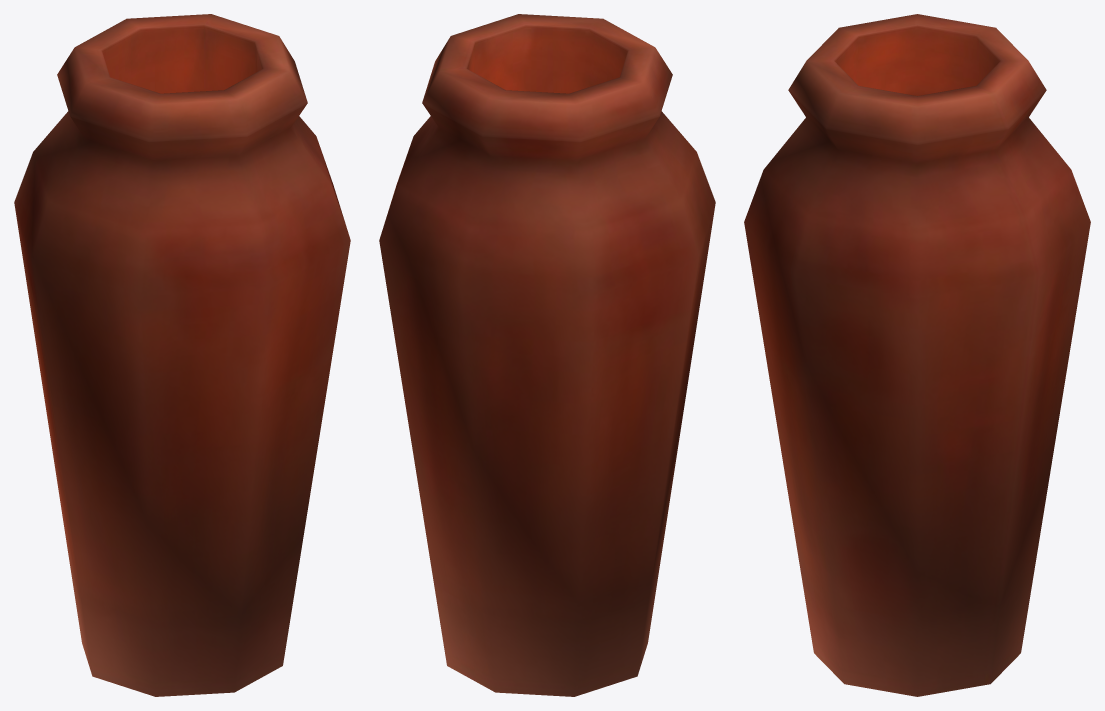
File: pot.glb
The picture shows the model from 3 angles, left to right: view 1: azimuth 30°, elevation 25°; view 2: azimuth 150°, elevation 25°; view 3: azimuth 270°, elevation 25°; orthographic projection.
Parts seen in each view (by area): view 1: pot; view 2: pot; view 3: pot.
Boxes of the visible parts, left/top/right/bottom form: pot: left=14, top=14, right=350, bottom=696; pot: left=379, top=14, right=715, bottom=696; pot: left=744, top=14, right=1090, bottom=696.
Bounding box in the file's own units: 0.5777 × 1.09 × 0.5777.
Materials: 1 (1 with a texture image).
